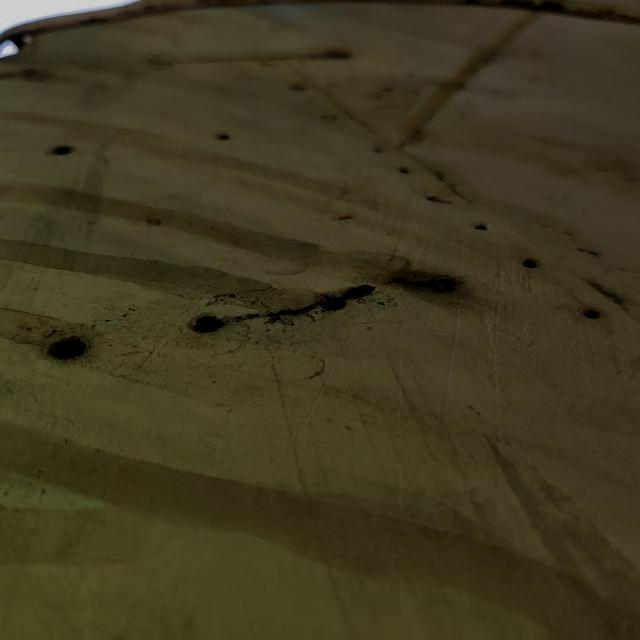crack: (166, 245, 480, 363)
